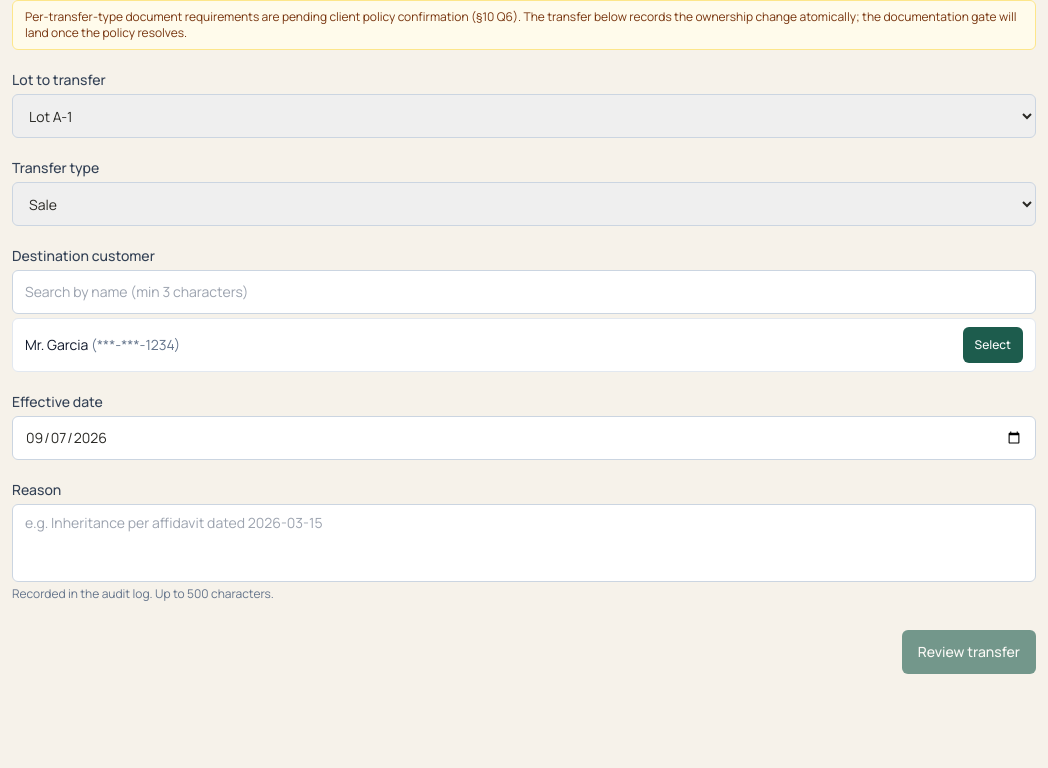
Test: OwnershipTransferForm — confirm flow › selects a customer and renders the selected badge after Select click
Type "Mr." into the field with test id "ownership-transfer-search" at (524,292), box [12, 270, 1036, 314]
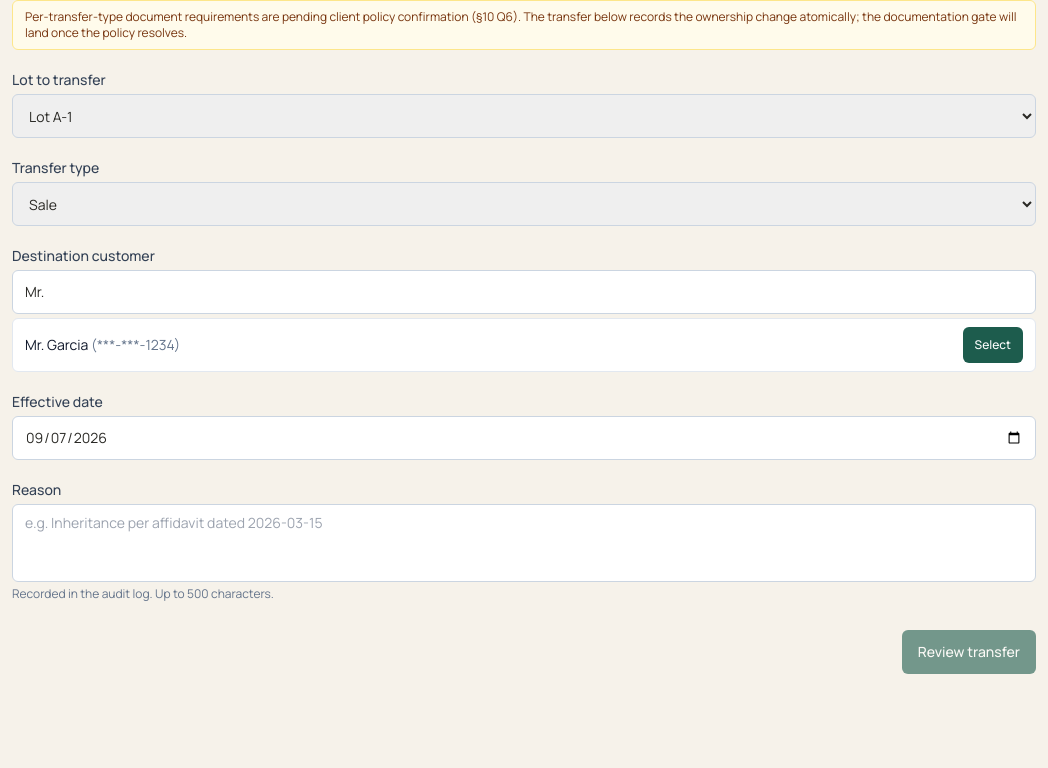
Click the button "Select" at (993,345), box [963, 327, 1023, 363]
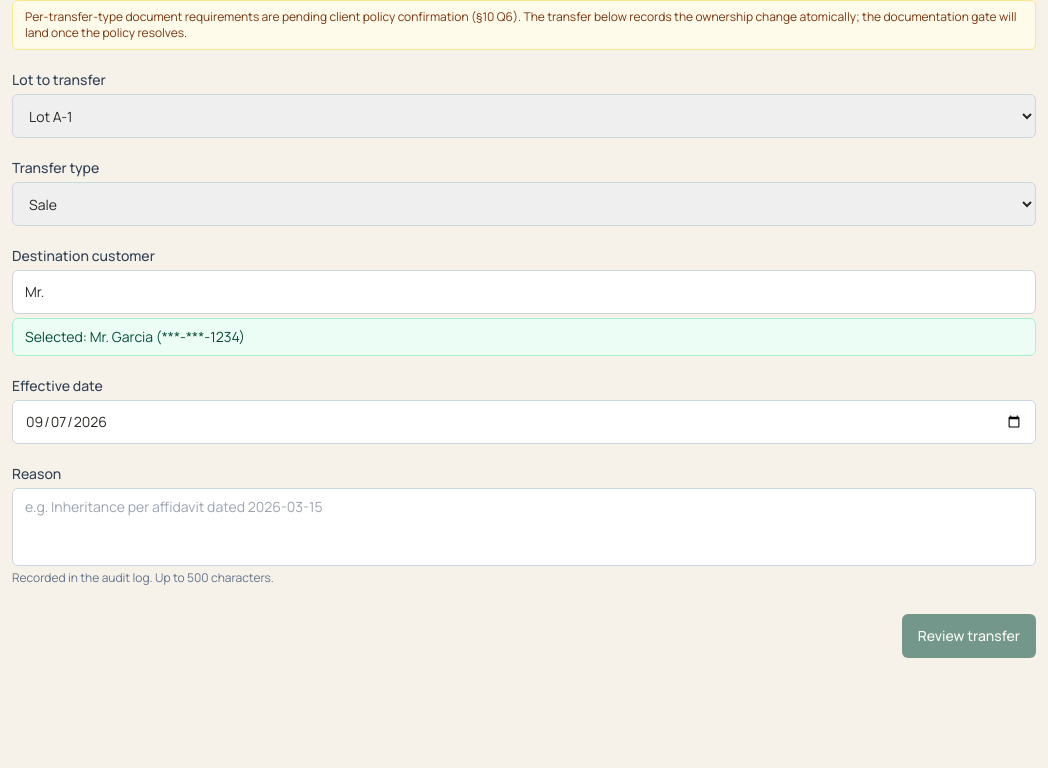
Expected: the text "Selected: Mr. Garcia (***-***-1234)" is shown, [12, 318, 1036, 356]
